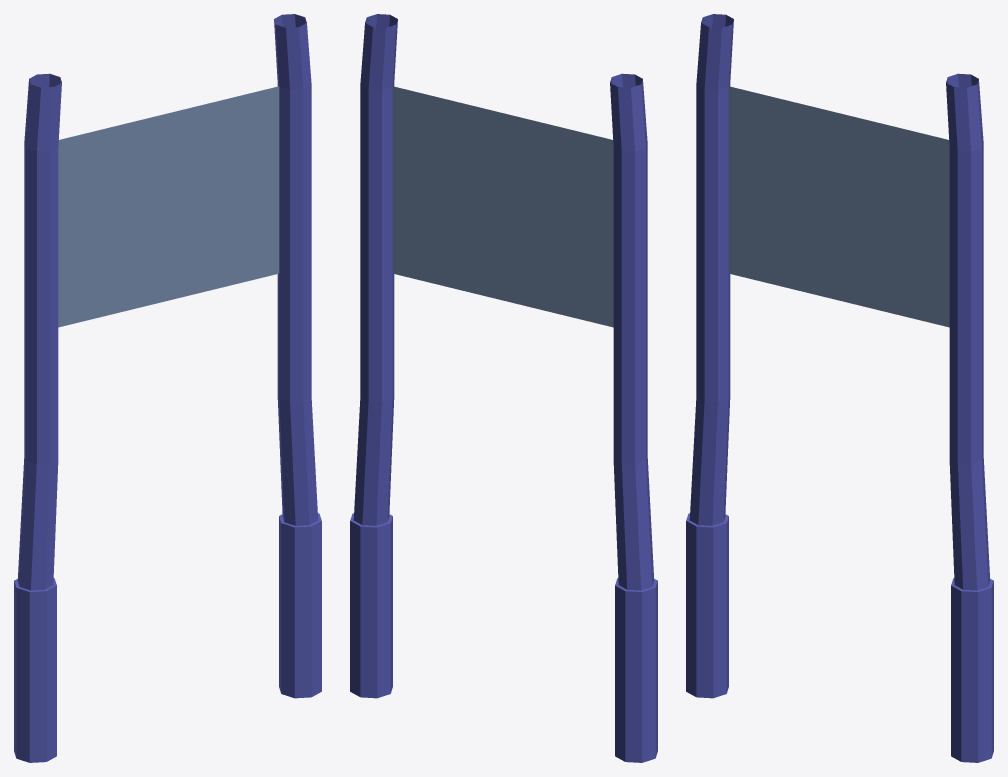
File: Ski_pole2.fbx
The picture shows the model from 3 angles, left to right: view 1: azimuth 30°, elevation 25°; view 2: azimuth 150°, elevation 25°; view 3: azimuth 330°, elevation 25°; orthographic projection.
Visible parts, largest first — view 1: Ski pole2; view 2: Ski pole2; view 3: Ski pole2.
Boxes of the visible parts, left/top/right/bottom form: Ski pole2: left=14, top=14, right=321, bottom=762; Ski pole2: left=350, top=14, right=657, bottom=762; Ski pole2: left=686, top=14, right=993, bottom=762.
Size of the model in its own units: 31 by 65.51 by 3.92.
